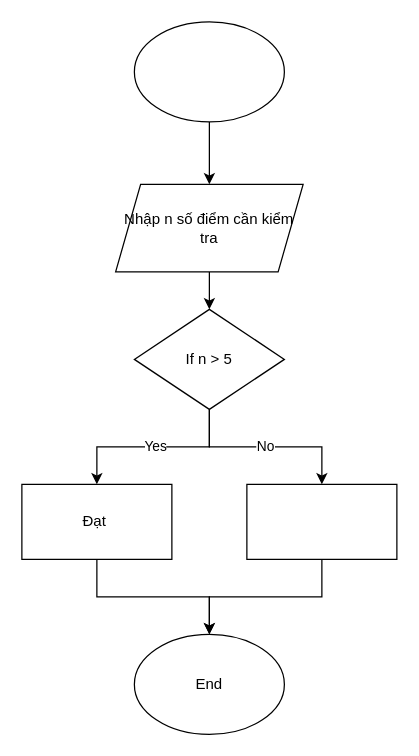
Some shapes in this 419 by 756 pixel diagram are drawn without their labels. The box of each missing label's shape, as (x1, y1, x2, y2) in pixels:
Không đạt: (246, 483, 397, 559)
Start: (133, 21, 284, 122)
